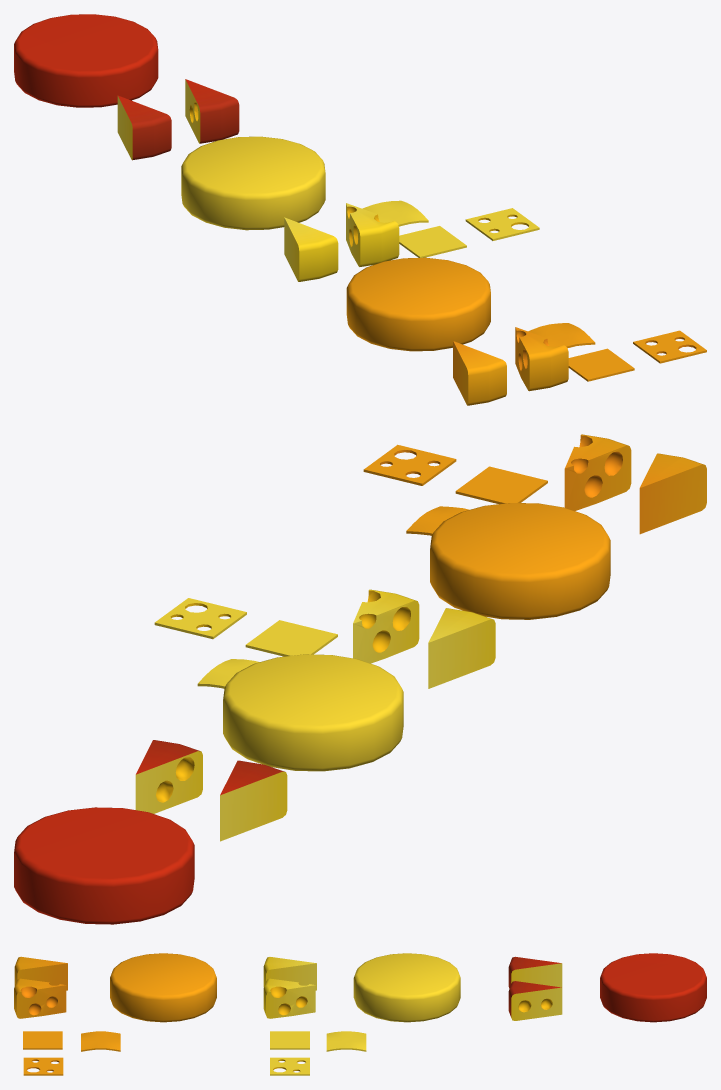
The model's file is cheese.fbx.
3 renders of one model, top to bottom at view 1: azimuth 30°, elevation 25°; view 2: azimuth 150°, elevation 25°; view 3: azimuth 270°, elevation 25°, orthographic. The views are drawn at different scales.
Parts seen in each view (by area): view 1: cheddarCheeseWheel, cheeseWheel_Wax, cheeseWheel, cheeseTriangle_Wax, cheeseTriangle_Wax_Hole, cheeseTriangle, cheddarCheeseTriangle, cheddarCheeseTriangle_Hole, cheeseTriangle_Hole, cheeseSlice, cheddarCheeseSlice, cheddarCheeseSlice_Hole (+3 smaller); view 2: cheeseWheel_Wax, cheeseWheel, cheddarCheeseWheel, cheddarCheeseTriangle, cheeseTriangle, cheeseTriangle_Wax, cheddarCheeseTriangle_Hole, cheeseTriangle_Wax_Hole, cheeseTriangle_Hole, cheddarCheeseSlice, cheeseSlice, cheddarCheeseSlice_Hole (+3 smaller); view 3: cheeseWheel, cheddarCheeseWheel, cheeseWheel_Wax, cheeseTriangle_Wax_Hole, cheddarCheeseTriangle_Hole, cheeseTriangle_Hole, cheeseTriangle_Wax, cheeseTriangle, cheddarCheeseTriangle, cheeseSlice_Melted, cheeseSlice, cheddarCheeseSlice (+3 smaller).
Part boxes in pixels (bbox=[...]): cheddarCheeseWheel: bbox=[346, 257, 490, 351]; cheeseWheel_Wax: bbox=[14, 14, 158, 107]; cheeseWheel: bbox=[181, 136, 325, 230]; cheeseTriangle_Wax: bbox=[117, 95, 171, 160]; cheeseTriangle_Wax_Hole: bbox=[185, 79, 239, 143]; cheeseTriangle: bbox=[284, 217, 338, 281]; cheddarCheeseTriangle: bbox=[453, 341, 506, 405]; cheddarCheeseTriangle_Hole: bbox=[515, 327, 568, 391]; cheeseTriangle_Hole: bbox=[346, 203, 399, 266]; cheeseSlice: bbox=[399, 226, 466, 257]; cheddarCheeseSlice: bbox=[568, 348, 634, 381]; cheddarCheeseSlice_Hole: bbox=[633, 330, 706, 363]; cheeseWheel_Wax: bbox=[14, 807, 194, 924]; cheeseWheel: bbox=[223, 654, 403, 771]; cheddarCheeseWheel: bbox=[430, 503, 610, 619]; cheddarCheeseTriangle: bbox=[639, 453, 706, 534]; cheeseTriangle: bbox=[428, 608, 495, 688]; cheeseTriangle_Wax: bbox=[220, 760, 287, 841]; cheddarCheeseTriangle_Hole: bbox=[564, 434, 631, 510]; cheeseTriangle_Wax_Hole: bbox=[135, 740, 202, 813]; cheeseTriangle_Hole: bbox=[353, 589, 419, 663]; cheddarCheeseSlice: bbox=[455, 466, 547, 503]; cheeseSlice: bbox=[245, 620, 337, 656]; cheddarCheeseSlice_Hole: bbox=[363, 444, 456, 485]; cheeseWheel: bbox=[353, 953, 460, 1022]; cheddarCheeseWheel: bbox=[110, 953, 216, 1022]; cheeseWheel_Wax: bbox=[600, 953, 706, 1022]; cheeseTriangle_Wax_Hole: bbox=[508, 981, 562, 1020]; cheddarCheeseTriangle_Hole: bbox=[14, 978, 66, 1018]; cheeseTriangle_Hole: bbox=[263, 978, 315, 1018]; cheeseTriangle_Wax: bbox=[508, 956, 562, 988]; cheeseTriangle: bbox=[263, 957, 316, 990]; cheddarCheeseTriangle: bbox=[14, 956, 67, 990]; cheeseSlice_Melted: bbox=[326, 1031, 366, 1051]; cheeseSlice: bbox=[270, 1031, 309, 1049]; cheddarCheeseSlice: bbox=[23, 1031, 62, 1049].
Size of the model in its own units: 4.37 by 13.92 by 0.7639.
